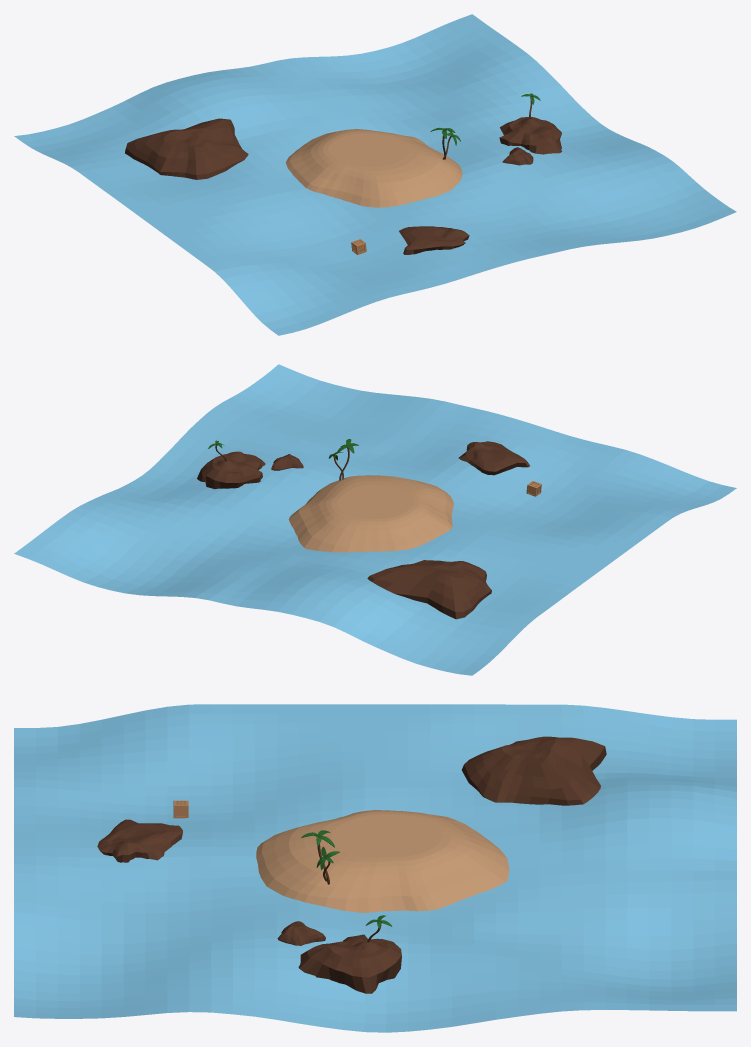
Rendered from ada ve taşlar.fbx.
3 views of the same model, one above another, from view 1: azimuth 30°, elevation 25°; view 2: azimuth 150°, elevation 25°; view 3: azimuth 270°, elevation 25° (orthographic). The views are drawn at different scales.
Visible parts, largest first — view 1: Plane.002, Sphere.001, Sphere.002, Sphere.003, Sphere.005; view 2: Plane.002, Sphere.001, Sphere.002, Sphere.003, Sphere.005; view 3: Plane.002, Sphere.001, Sphere.002, Sphere.003, Sphere.005, Sphere.004.
Boxes of the visible parts, x1,y1,x2,y2 form: Plane.002: (14, 14, 736, 335); Sphere.001: (285, 129, 462, 207); Sphere.002: (125, 118, 248, 179); Sphere.003: (499, 117, 561, 154); Sphere.005: (399, 226, 469, 254); Plane.002: (14, 364, 736, 675); Sphere.001: (288, 475, 453, 552); Sphere.002: (367, 560, 491, 619); Sphere.003: (197, 451, 265, 489); Sphere.005: (458, 441, 529, 475); Plane.002: (14, 704, 736, 1032); Sphere.001: (256, 810, 509, 912); Sphere.002: (462, 736, 606, 805); Sphere.003: (298, 934, 401, 993); Sphere.005: (97, 819, 182, 862); Sphere.004: (277, 921, 325, 945).
Bounding box in the file's own units: 4340 × 549 × 4340.
